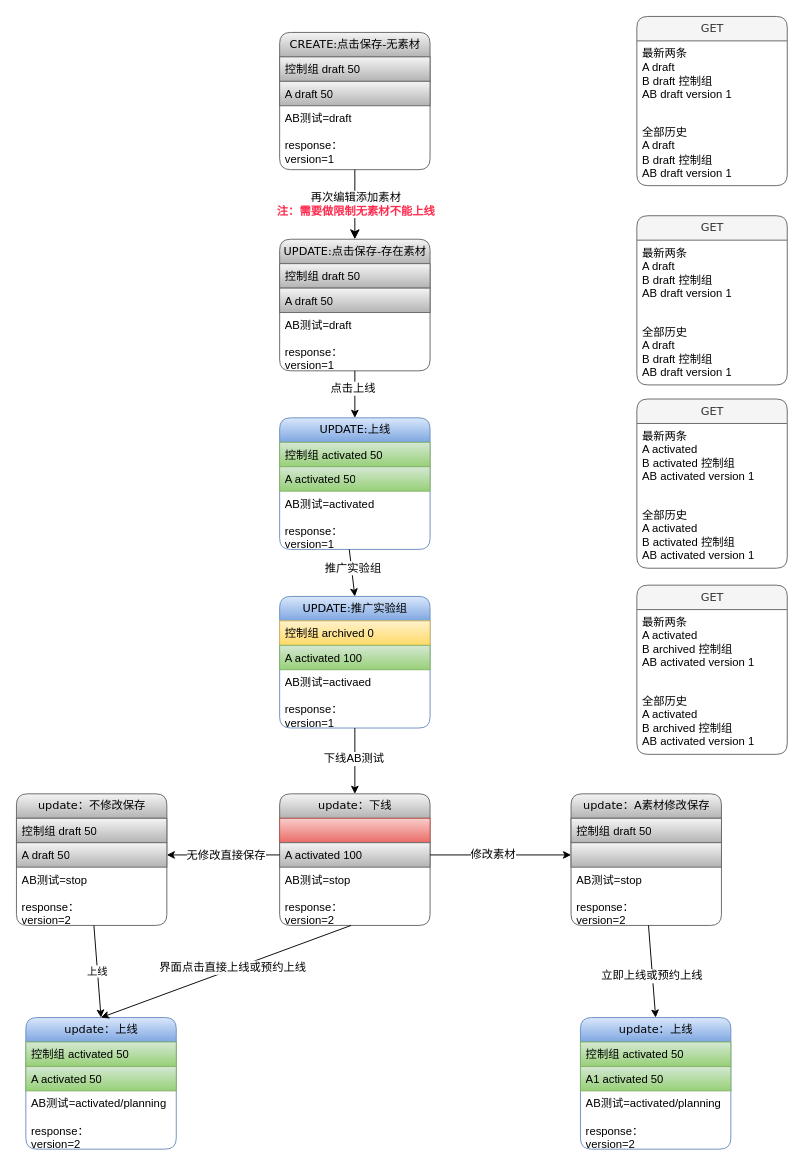
Some shapes in this 804 by 1168 pixel diagram are drawn without their labels. The shapes that lost their labels are listed below. From the top down, each one's centre as x and y in pixels, then its label:
point 354,830: 控制组 deleted 0
point 645,854: A1 draft 50
